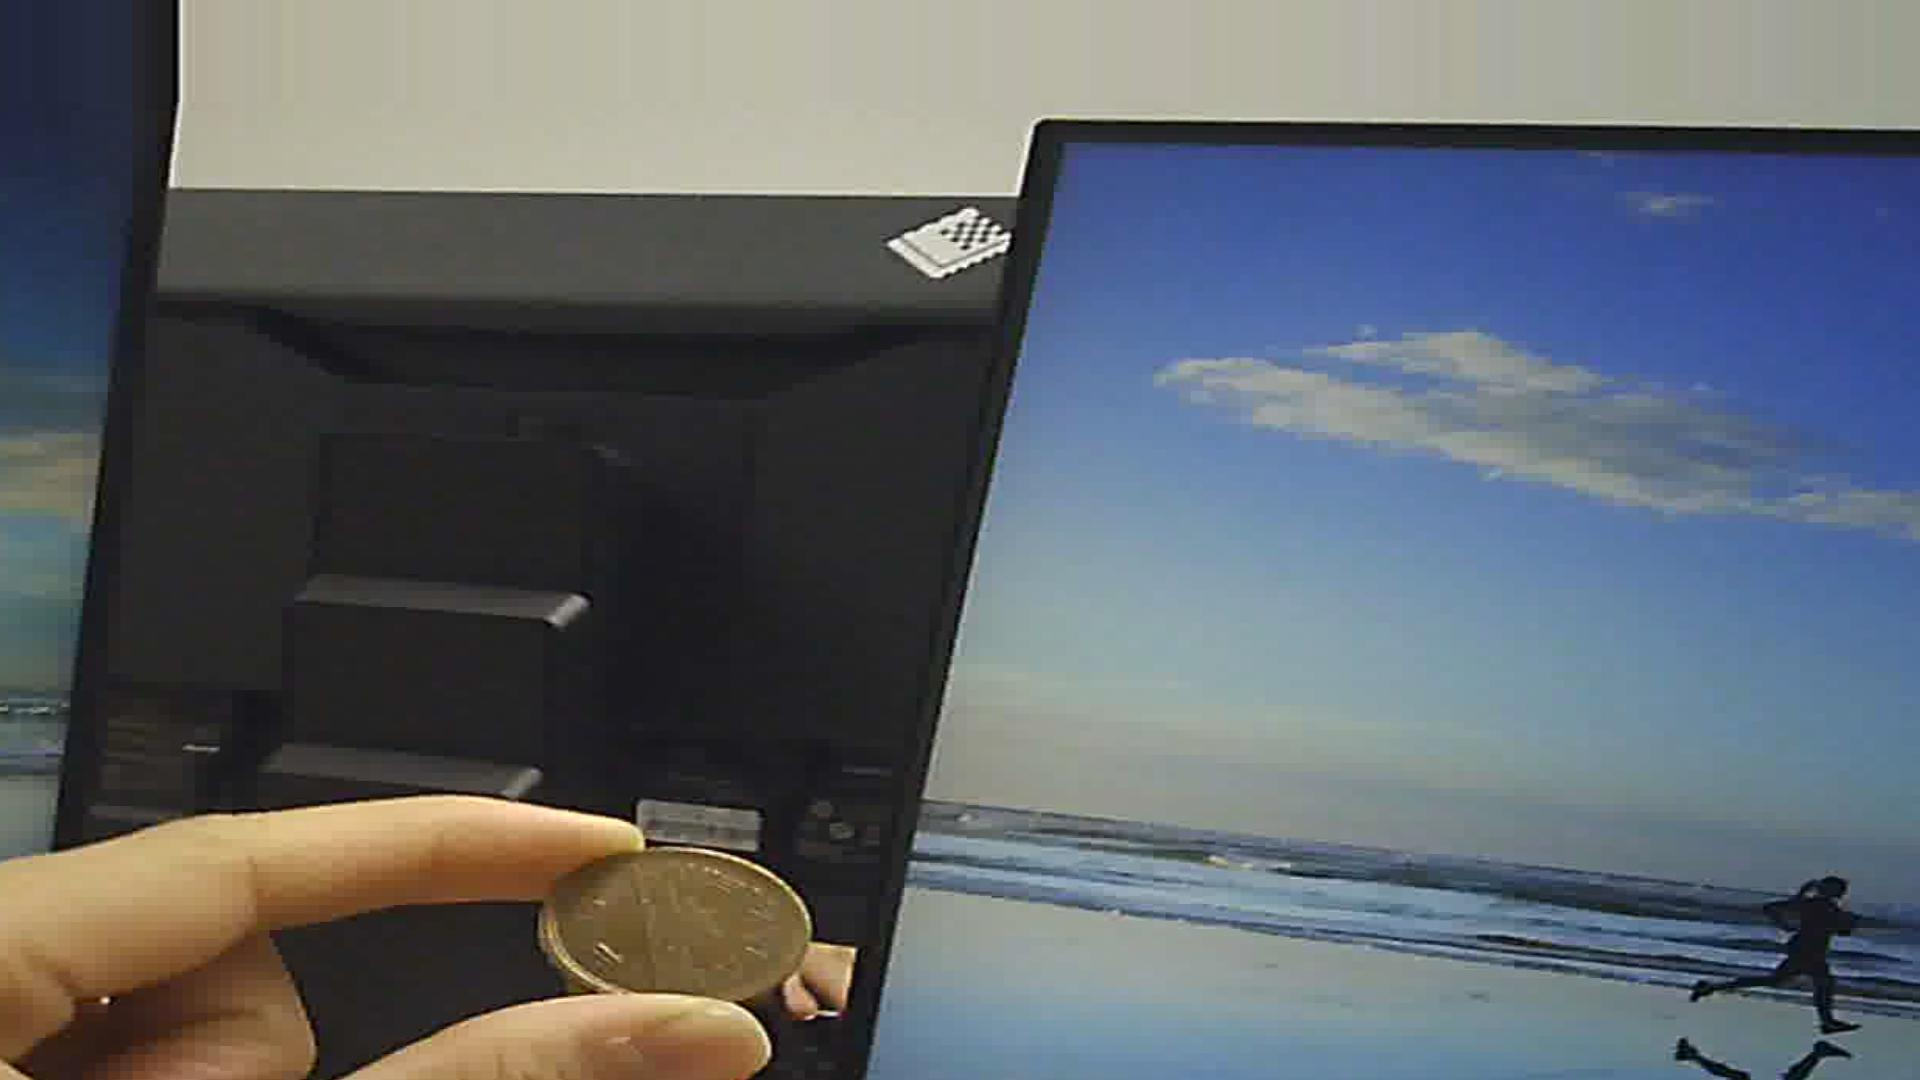10 Yen: (524, 840, 824, 993)
